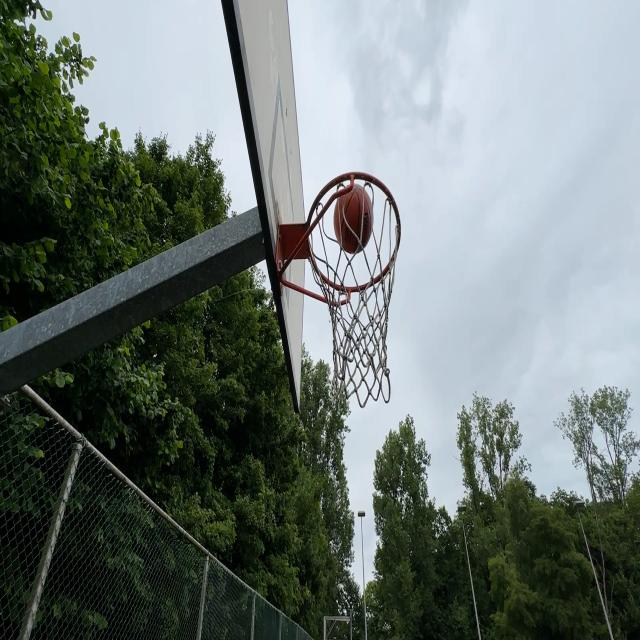Basketball: (333, 175, 375, 252)
